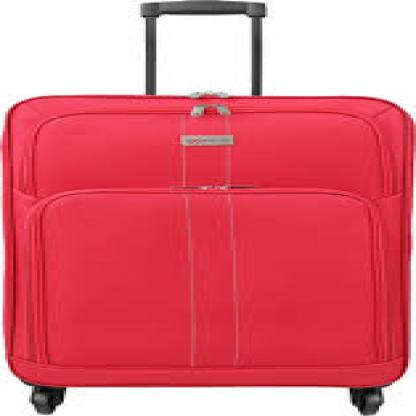maleta: (3, 73, 410, 415)
